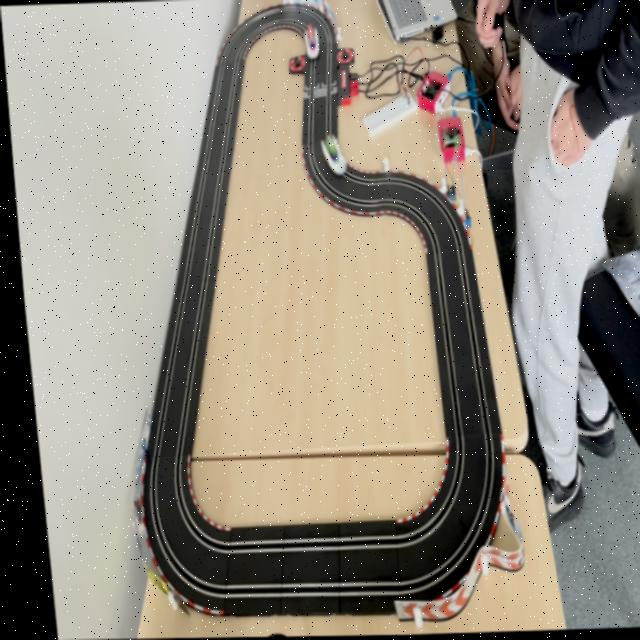mario: (301, 26, 321, 62)
yoshi: (316, 133, 346, 177)
